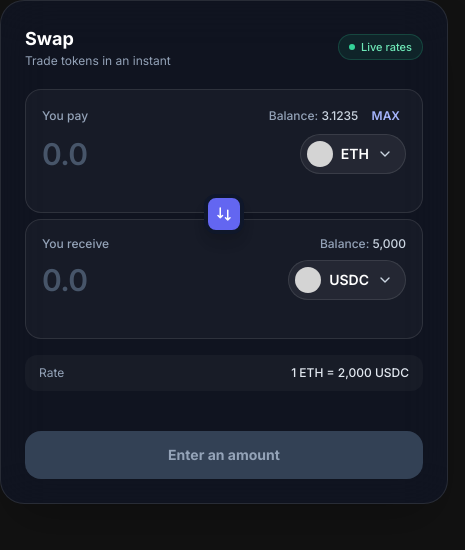
SwapForm › clicking MAX fills a spendable amount without an insufficient-balance error
Click the button "MAX": (386, 116) [366,106,406,126]
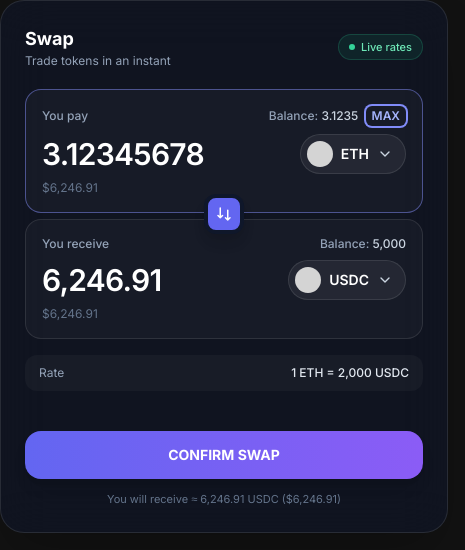
Check: the button "CONFIRM SWAP" is enabled, box [25,431,423,479]
